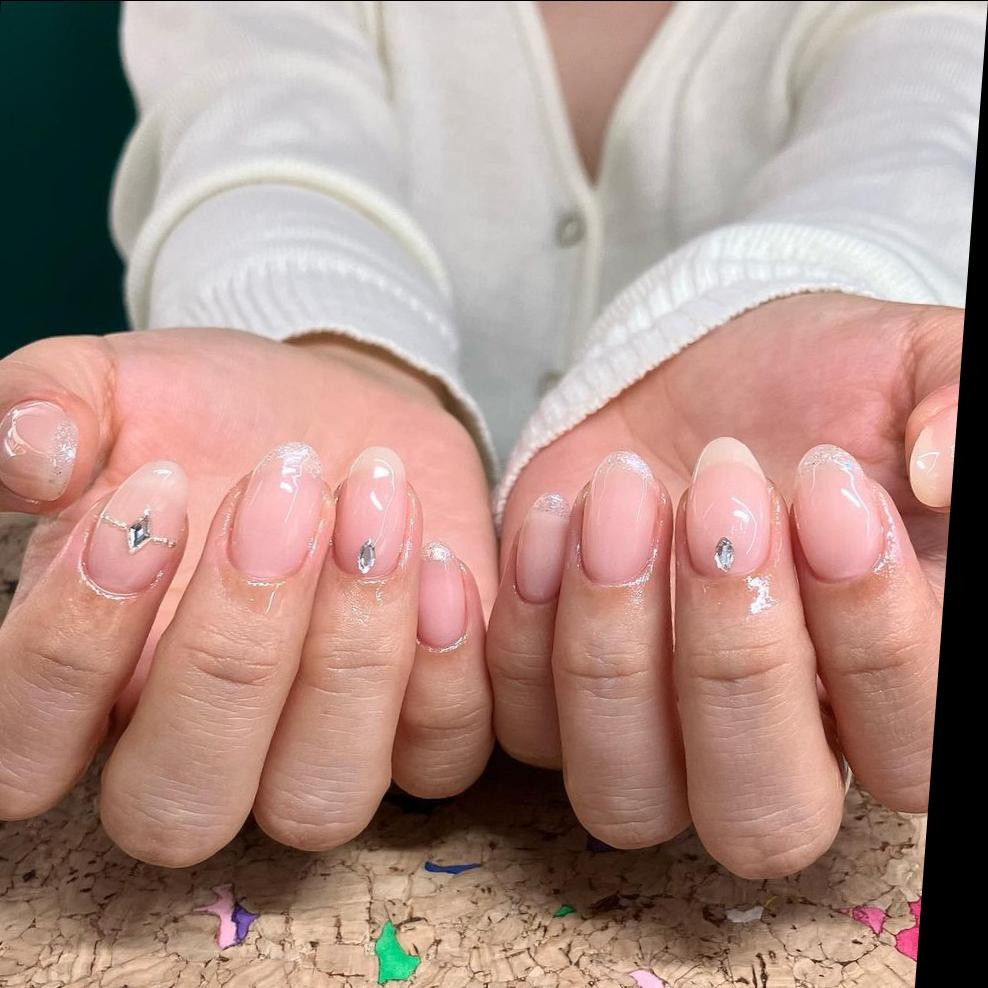nail: (74, 457, 191, 599), (784, 441, 892, 583), (222, 439, 328, 582), (574, 448, 665, 586), (327, 443, 410, 576), (0, 395, 81, 502), (508, 490, 572, 603), (412, 541, 474, 653), (902, 393, 959, 511)
